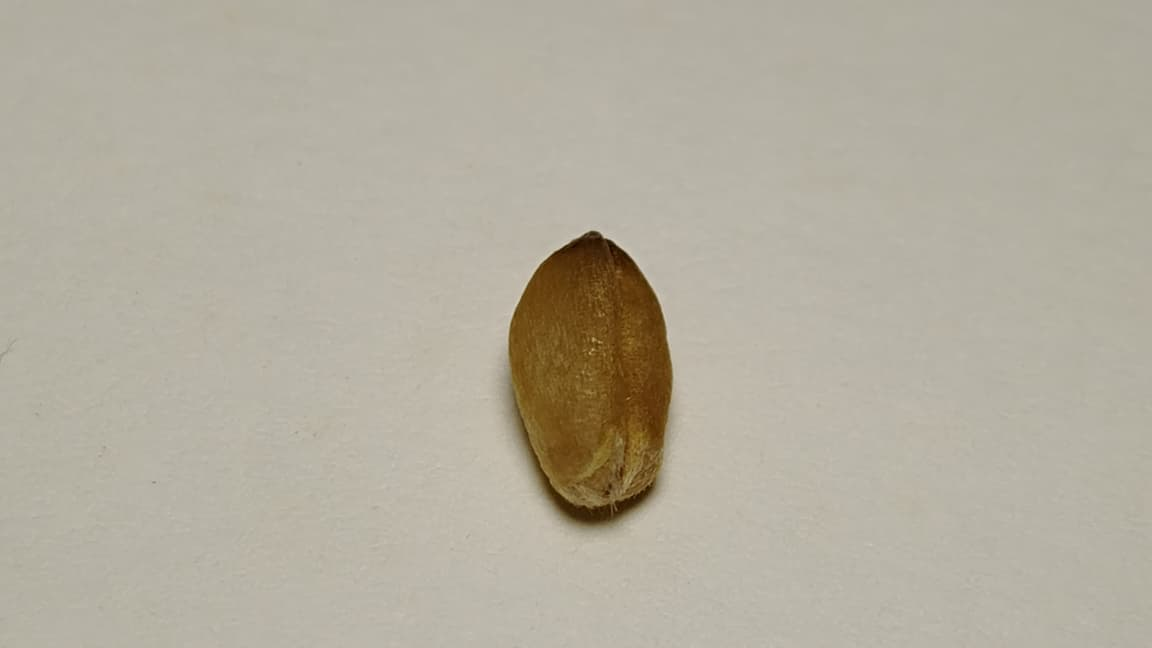healthy: (510, 233, 671, 506)
